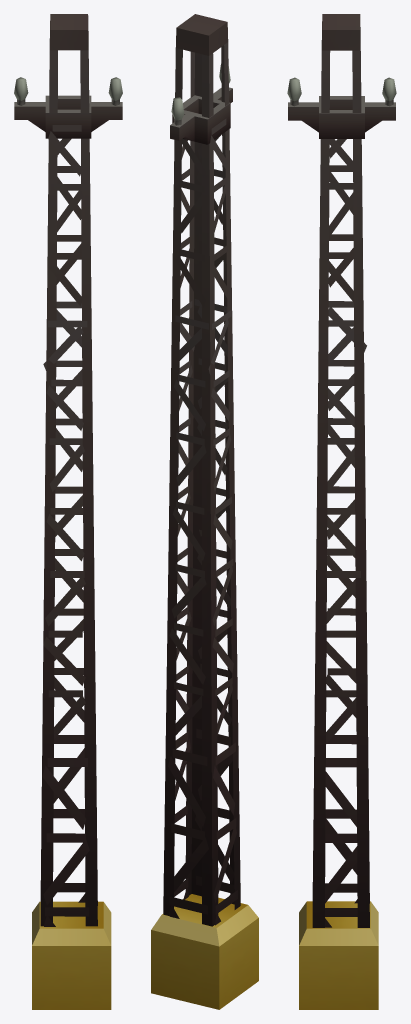
File: SM_CityElectricPole_02.fbx
3 renders of one model, left to right at view 1: azimuth 90°, elevation 25°; view 2: azimuth 150°, elevation 25°; view 3: azimuth 270°, elevation 25°, orthographic.
Parts seen in each view (by area): view 1: SM_CityElectricPole_02; view 2: SM_CityElectricPole_02; view 3: SM_CityElectricPole_02.
Boxes of the visible parts, <box> form: SM_CityElectricPole_02: <box>14,14,122,1009</box>; SM_CityElectricPole_02: <box>151,14,258,1009</box>; SM_CityElectricPole_02: <box>287,14,396,1009</box>.
Bounding box in the file's own units: 0.5898 × 7.95 × 0.809.
